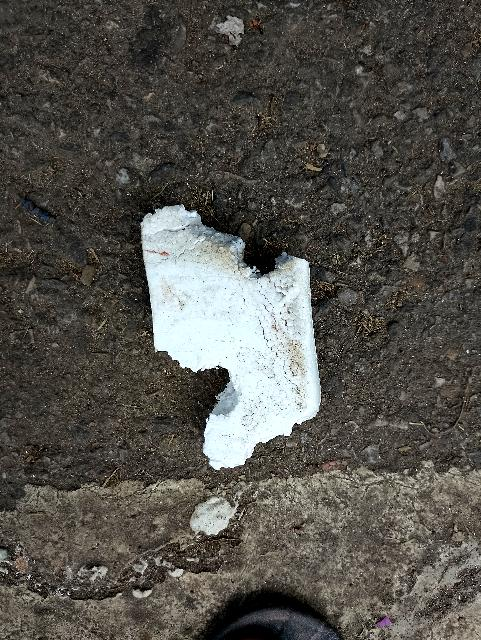cocksheet: (145, 216, 319, 461)
